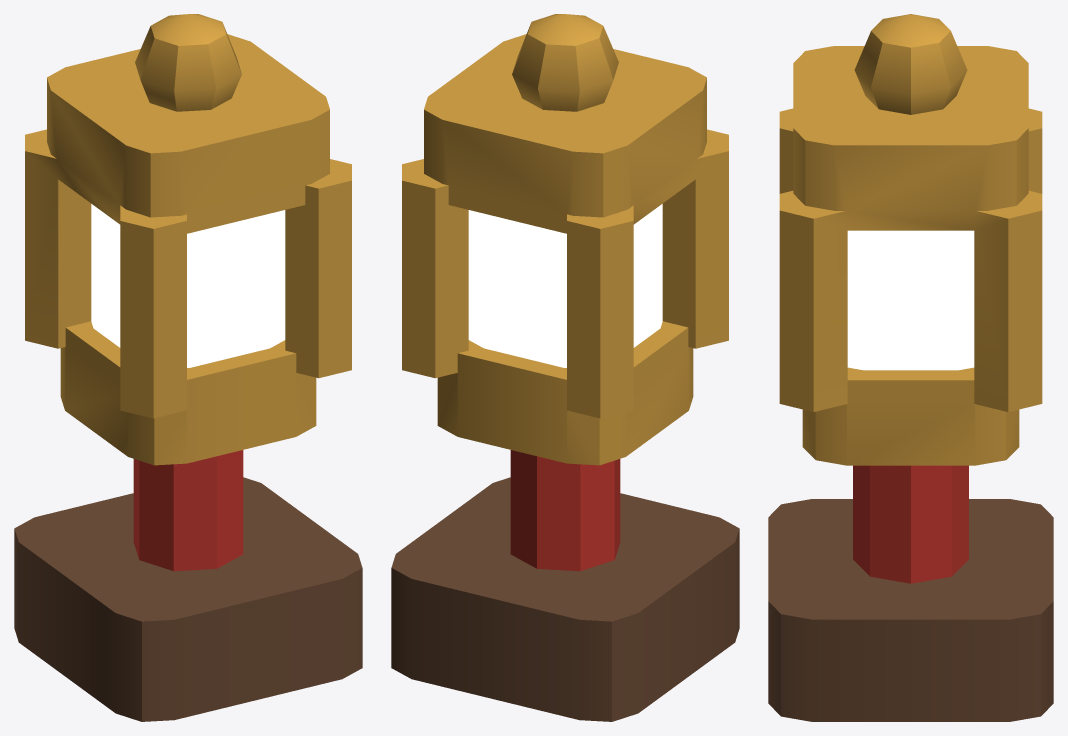
Rendered from harbor-lantern.glb.
3 views of the same model, side by side, from view 1: azimuth 30°, elevation 25°; view 2: azimuth 150°, elevation 25°; view 3: azimuth 270°, elevation 25° (orthographic).
Visible parts, largest first — view 1: harbor-lantern; view 2: harbor-lantern; view 3: harbor-lantern.
Part boxes in pixels (bbox=[...]): harbor-lantern: bbox=[14, 14, 362, 721]; harbor-lantern: bbox=[391, 14, 739, 721]; harbor-lantern: bbox=[768, 14, 1053, 721].
Bounding box in the file's own units: 0.91 × 2.27 × 0.91.
2 materials, 1 textured.
